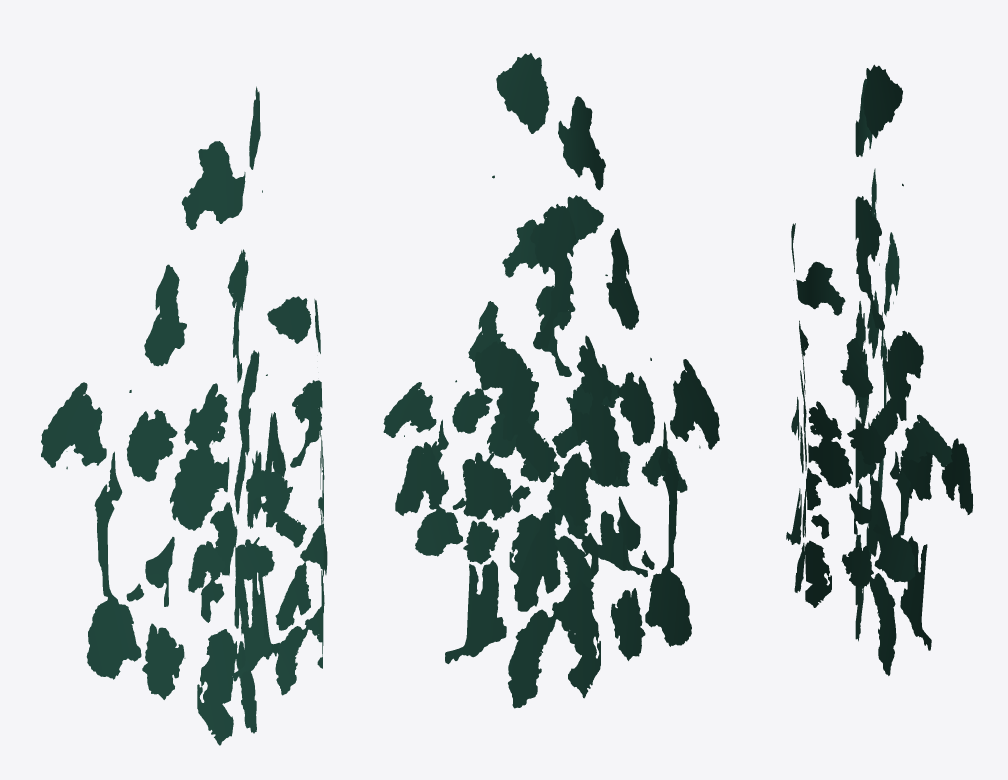
Rendered from SM_IvyUp_Pillar_01.fbx.
3 views of the same model, side by side, from view 1: azimuth 30°, elevation 25°; view 2: azimuth 150°, elevation 25°; view 3: azimuth 270°, elevation 25° (orthographic). The views are drawn at different scales.
Parts seen in each view (by area): view 1: SM_IvyUp_Pillar_01; view 2: SM_IvyUp_Pillar_01; view 3: SM_IvyUp_Pillar_01.
Part boxes in pixels (x1,y1,x2,y2): SM_IvyUp_Pillar_01: (41, 86, 327, 745); SM_IvyUp_Pillar_01: (383, 53, 719, 708); SM_IvyUp_Pillar_01: (786, 64, 973, 675).
Size of the model in its own units: 112 by 238 by 68.61.
